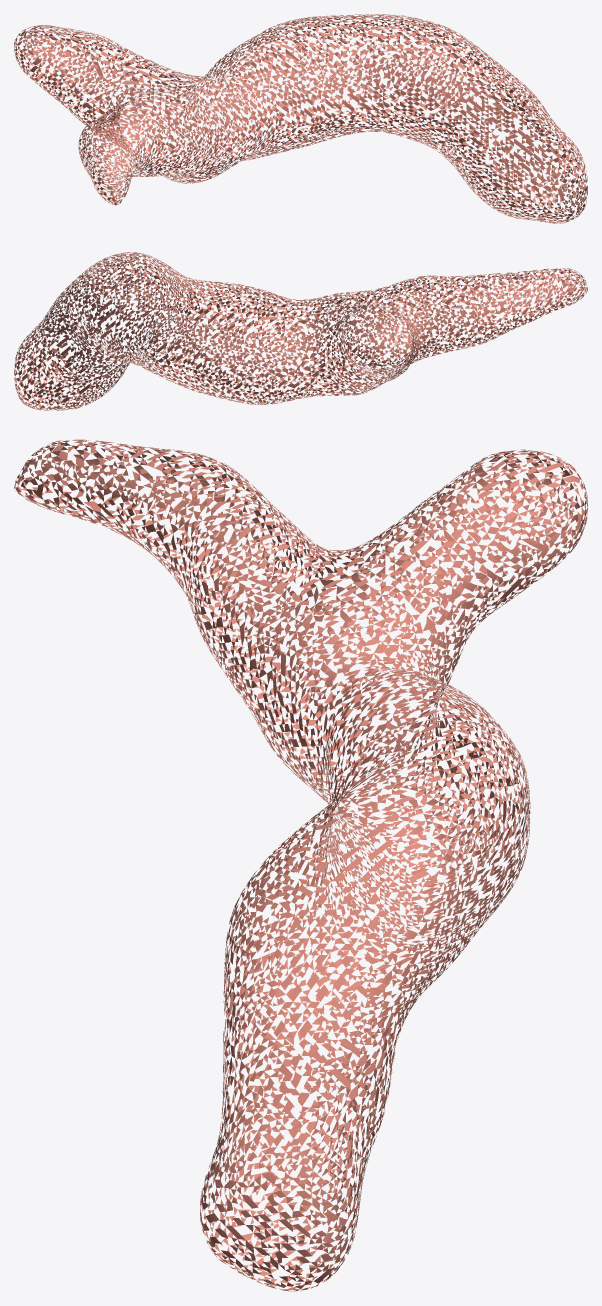
The model's file is morph_002.glb.
The picture shows the model from 3 angles, top to bottom: view 1: azimuth 30°, elevation 25°; view 2: azimuth 150°, elevation 25°; view 3: azimuth 270°, elevation 25°; orthographic projection. The views are drawn at different scales.
Size of the model in its own units: 97.67 by 42.78 by 50.12.
